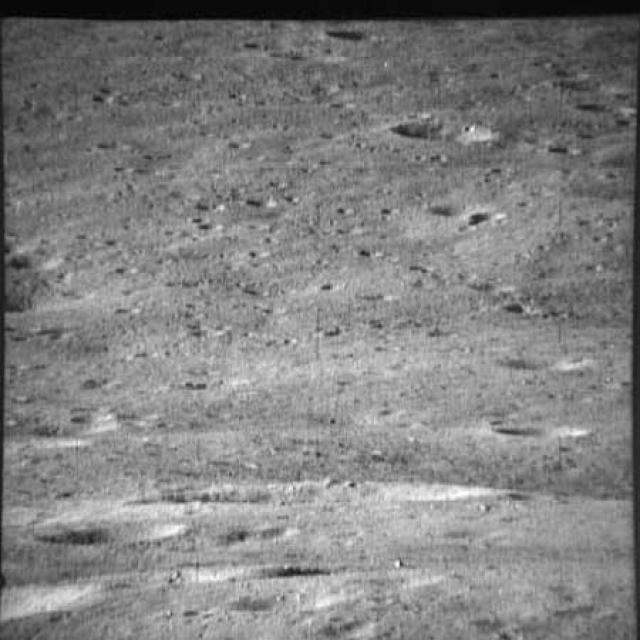crater: (161, 476, 515, 516), (218, 563, 444, 621), (26, 514, 193, 554), (0, 265, 88, 333), (380, 116, 503, 154), (499, 346, 598, 382), (492, 414, 591, 446), (5, 235, 64, 281), (264, 44, 349, 73), (546, 75, 639, 101), (568, 97, 638, 128), (320, 22, 393, 47), (533, 135, 584, 163), (420, 196, 478, 219), (239, 188, 282, 218), (491, 294, 535, 318)
